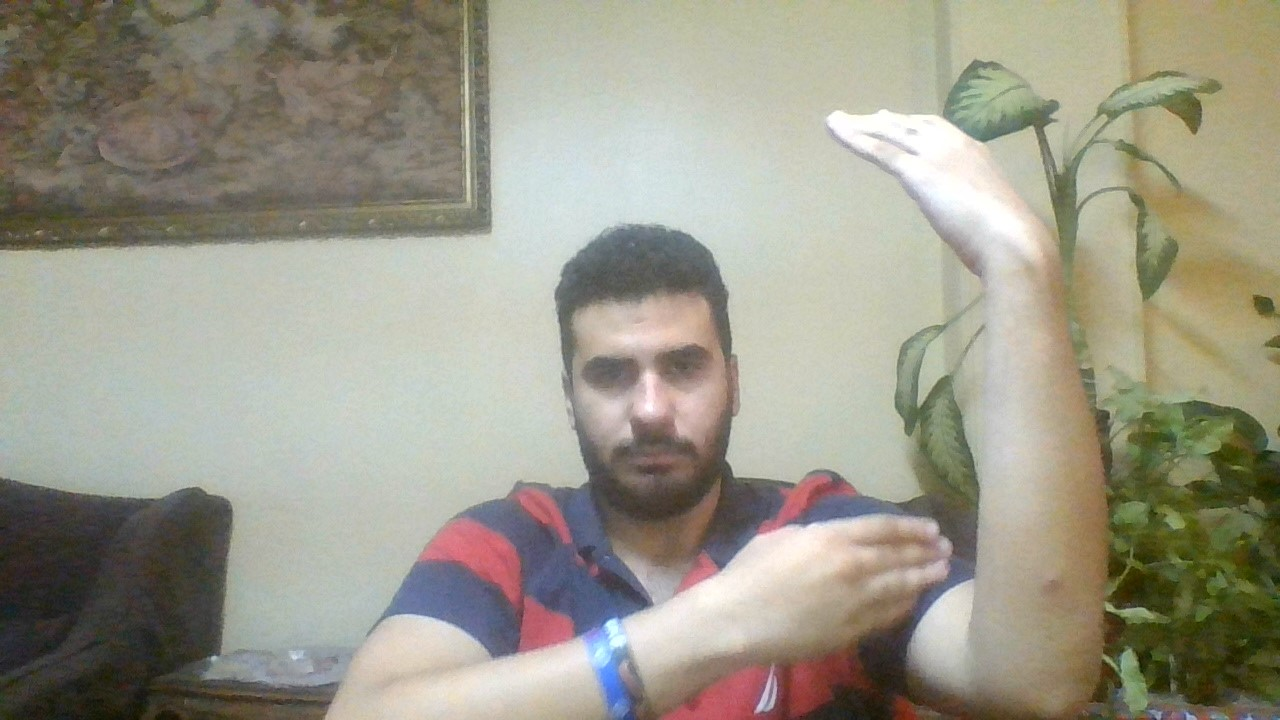morning: (768, 94, 1131, 676)
